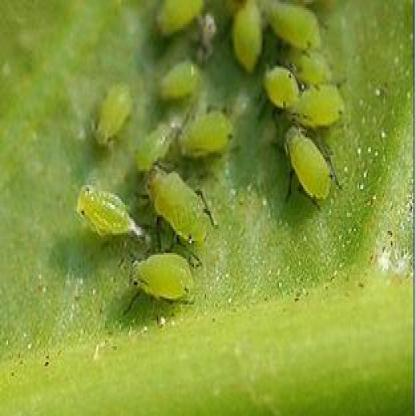aphid: (142, 156, 215, 249), (278, 119, 342, 214), (126, 245, 197, 313), (76, 178, 142, 248), (172, 103, 239, 169), (264, 2, 326, 57), (286, 78, 346, 132), (228, 0, 270, 74), (93, 82, 135, 154), (259, 51, 307, 112), (137, 114, 177, 182), (150, 0, 213, 40), (278, 38, 334, 83), (153, 53, 202, 100)
